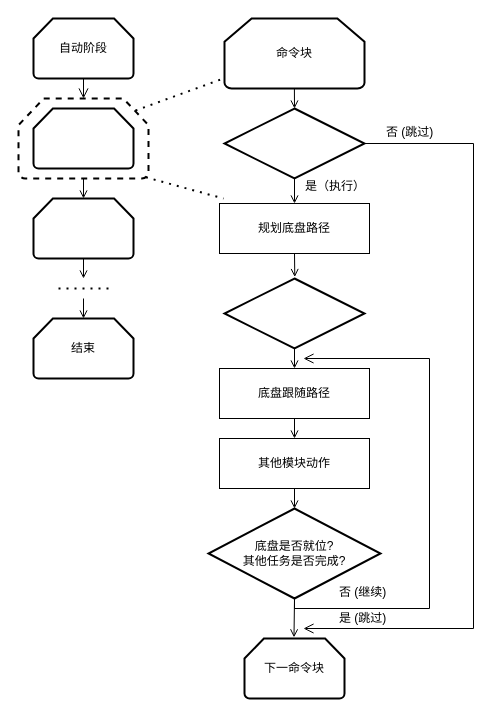
This 501x716 diagram has some shape labels left out. Each missing label, with the centre of its shape:
命令块1: point 83,138
命令块2: point 83,228
循环: point 294,313
触发条件: point 294,143
